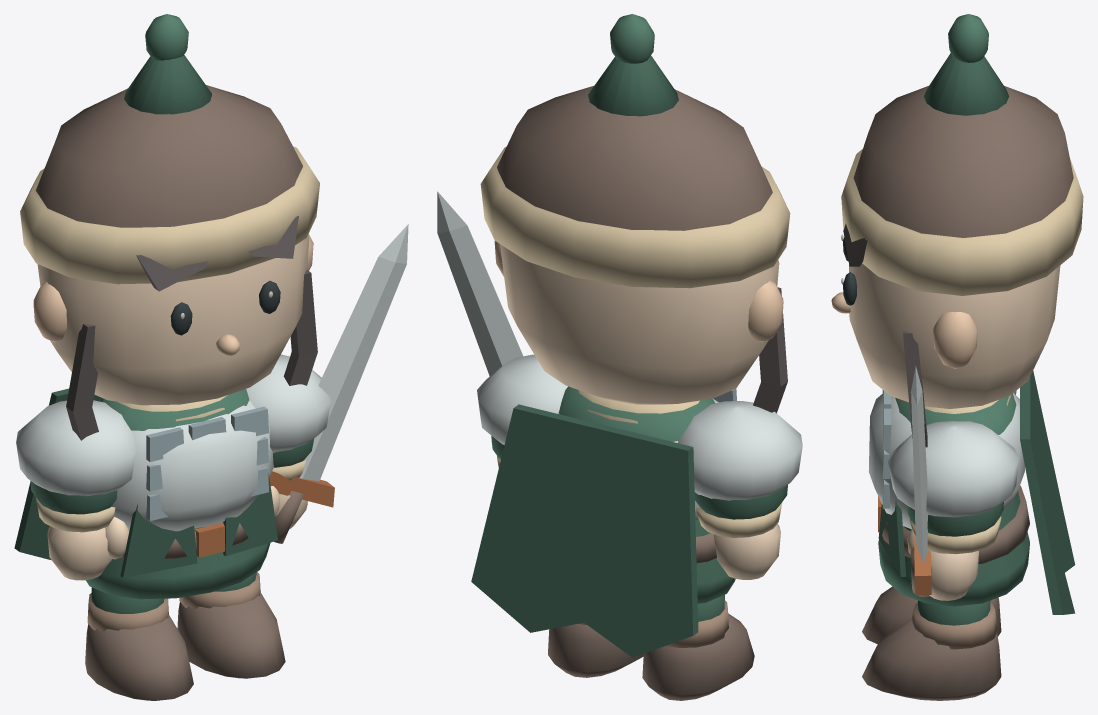
The model's file is knight.glb.
The picture shows the model from 3 angles, left to right: view 1: azimuth 30°, elevation 25°; view 2: azimuth 150°, elevation 25°; view 3: azimuth 270°, elevation 25°; orthographic projection. The views are drawn at different scales.
Parts seen in each view (by area): view 1: Regional helmet, Soft cheek head, Fur hat brim, Rounded breastplate, Big shoulder armour, Short folded tunic, Shaped bevel sword, Round leather boot, Round leather boot.001, Big shoulder armour.001, Mongol pointed cap, Coat fold (+22 smaller); view 2: Short scalloped cape, Regional helmet, Soft cheek head, Fur hat brim, Big shoulder armour, Shaped bevel sword, Round leather boot, Short folded tunic, Big shoulder armour.001, Mongol pointed cap, Round leather boot.001, Little mitten (+7 smaller); view 3: Regional helmet, Soft cheek head, Fur hat brim, Big shoulder armour.001, Round leather boot.001, Short scalloped cape, Short folded tunic, Mongol pointed cap, Rounded breastplate, Shaped bevel sword, Ear.001, Little mitten.001 (+12 smaller).
Boxes of the visible parts, x1,y1,x2,y2 form: Regional helmet: [35, 85, 302, 227]; Soft cheek head: [37, 234, 309, 405]; Fur hat brim: [20, 146, 319, 284]; Rounded breastplate: [111, 400, 273, 531]; Big shoulder armour: [16, 400, 136, 496]; Short folded tunic: [86, 389, 270, 599]; Shaped bevel sword: [299, 224, 408, 481]; Round leather boot: [85, 614, 193, 700]; Round leather boot.001: [177, 592, 285, 678]; Big shoulder armour.001: [246, 354, 331, 452]; Mongol pointed cap: [124, 55, 211, 114]; Coat fold: [120, 504, 197, 577]; Short scalloped cape: [471, 404, 698, 657]; Regional helmet: [497, 86, 772, 230]; Soft cheek head: [500, 244, 779, 404]; Fur hat brim: [480, 146, 790, 288]; Big shoulder armour: [678, 401, 802, 500]; Shaped bevel sword: [437, 191, 522, 376]; Round leather boot: [642, 613, 754, 700]; Short folded tunic: [558, 386, 735, 603]; Big shoulder armour.001: [477, 354, 567, 444]; Mongol pointed cap: [588, 55, 678, 116]; Round leather boot.001: [548, 624, 643, 677]; Little mitten: [714, 524, 780, 579]; Regional helmet: [853, 86, 1073, 237]; Soft cheek head: [849, 263, 1060, 408]; Fur hat brim: [841, 149, 1083, 295]; Big shoulder armour.001: [888, 421, 1019, 517]; Round leather boot.001: [862, 618, 1001, 700]; Short scalloped cape: [1020, 370, 1075, 614]; Short folded tunic: [878, 393, 1029, 606]; Mongol pointed cap: [923, 53, 1009, 115]; Rounded breastplate: [868, 393, 1024, 529]; Shaped bevel sword: [911, 365, 928, 564]; Ear.001: [933, 311, 977, 368]; Little mitten.001: [929, 550, 978, 600].
Bounding box in the file's own units: 1.04 × 1.75 × 0.614.
